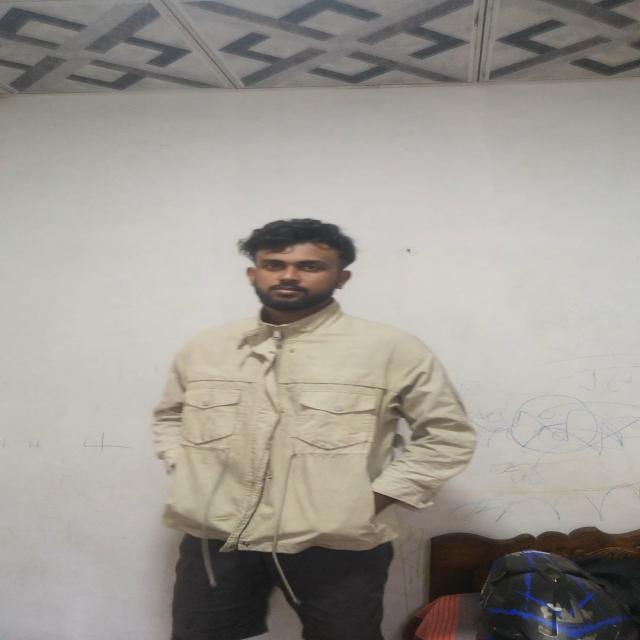Jacket_Wearer: (163, 302, 481, 572)
Person: (148, 209, 477, 640)
